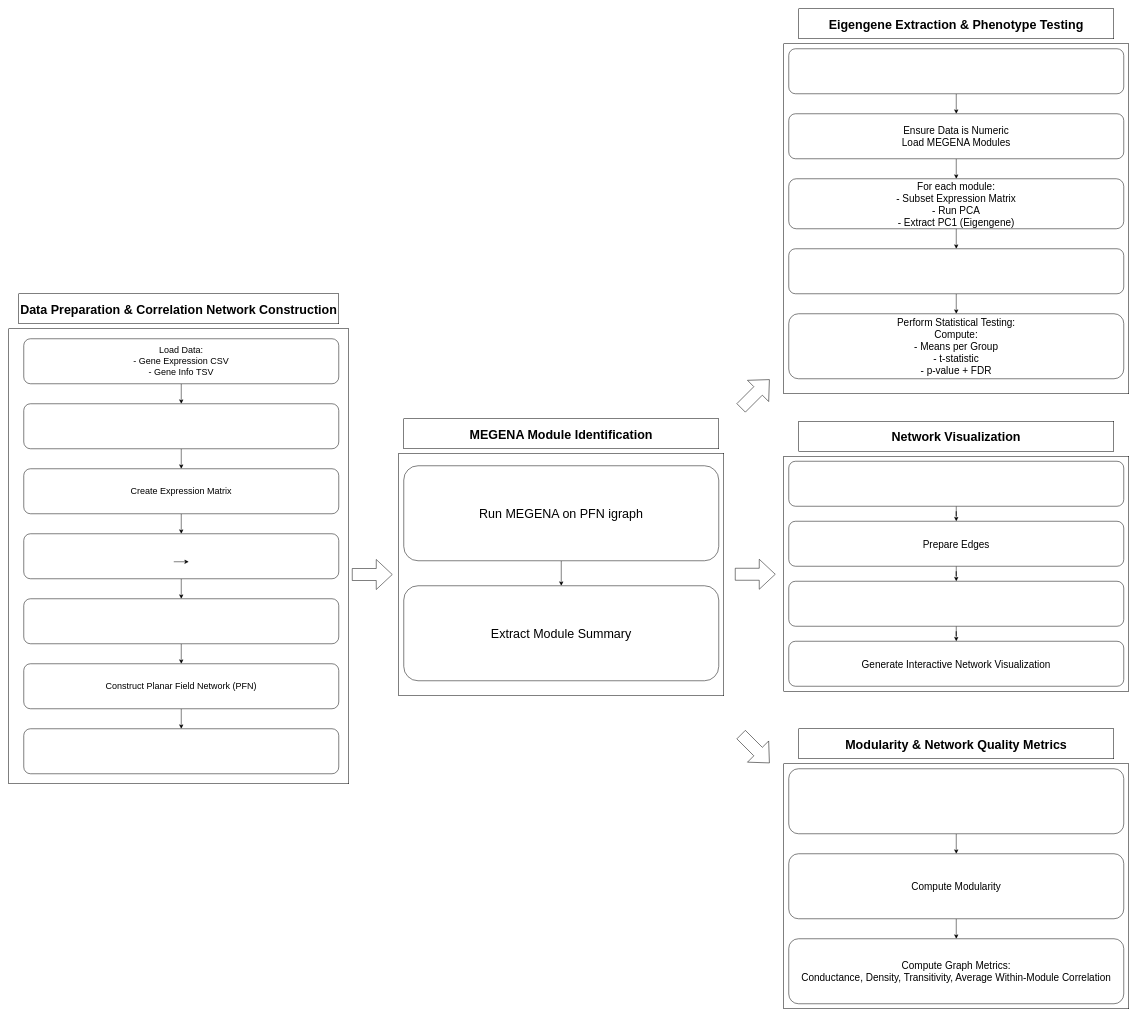
The diagram is 1138 pixels wide and 1018 high, and some of its shapes have lost their labels. Each missing label, with the box of its shape:
Build igraph Object: (23, 728, 339, 774)
Combine Eigengenes + Phenotype Labels: (788, 248, 1124, 294)
Compute Correlation Matrix: Peason, Spearman, Kendall: (23, 598, 339, 644)
Convert MEGENA Modules into Membership Vector: (788, 768, 1124, 834)
Load Expression Dataset Extract Class Labels Remove Phenotype Column: (788, 48, 1124, 94)
Prepare Node Attributes: ID, Degree, Gene Symbol, Module Group, Tooltips: (788, 461, 1124, 506)
Remove Duplicate Nodes: (788, 581, 1124, 626)
Remove Phenotype Column : - Control (MGS1) - Late (MGS4): (23, 403, 339, 449)
Transpose Expression Matrix: Samples x Genes Genes x Samples: (23, 533, 339, 579)
